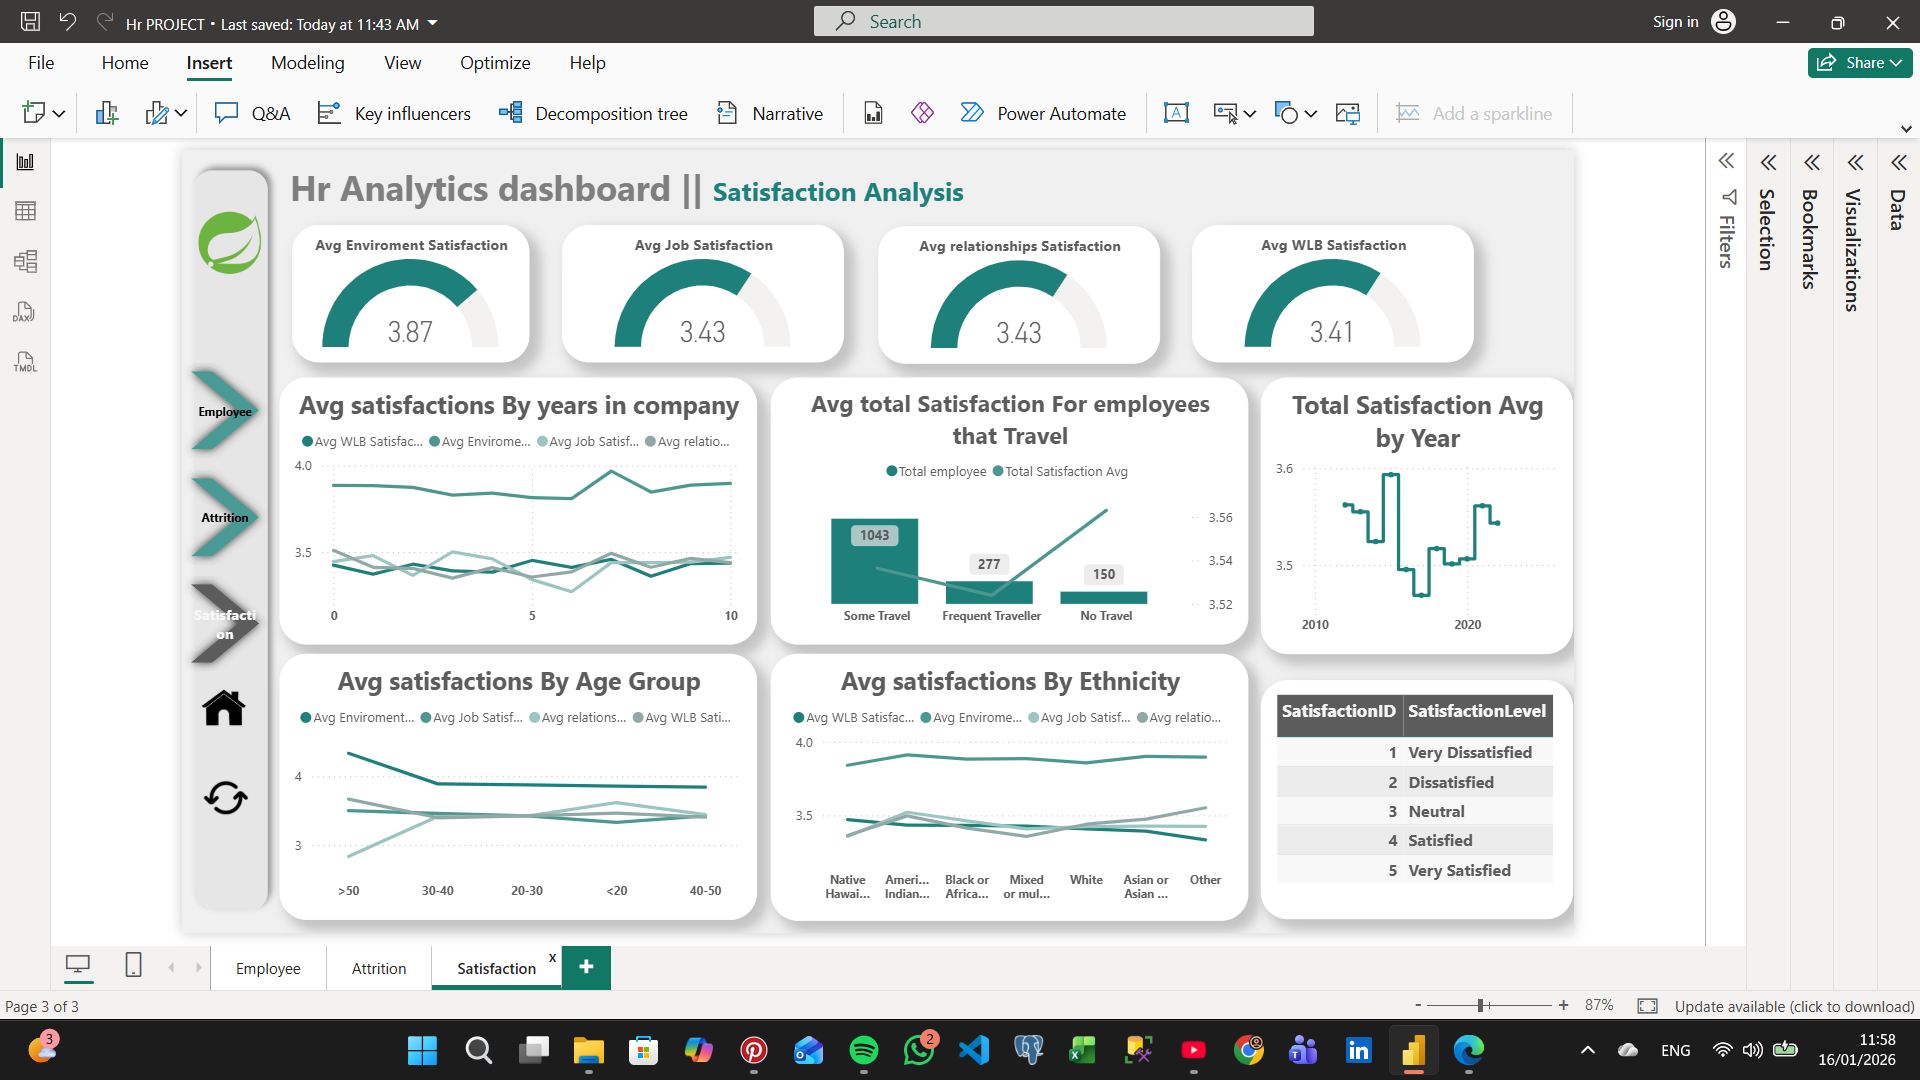

Layout of this report page (visuals, bound fields, positions):
{"tool":"powerbi","page":{"name":"Satisfaction","canvas":[1280,720],"ordinal":2},"visuals":[{"type":"textbox","box":[89.3,8.4,645.4,60.3],"z":0},{"type":"shape","box":[0,8,89.7,702.3],"z":1000},{"type":"image","box":[3.6,563.4,73.6,67.6],"z":2000},{"type":"image","box":[0,473.6,79.3,78.2],"z":3000},{"type":"gauge","title":"Avg Enviroment Satisfaction","fields":{"MaxValue":["Maesures.Max satisfaction"],"Y":["Maesures.Avg Enviroment Satisfaction"]},"box":[101.3,69.2,218.4,126.7],"z":4000},{"type":"gauge","title":"Avg relationships Satisfaction","fields":{"Y":["Maesures.Avg relationships Satisfaction"],"MaxValue":["Maesures.Max satisfaction"]},"box":[640.5,69.6,259.5,126.6],"z":5000},{"type":"gauge","title":"Avg Job Satisfaction","fields":{"Y":["Maesures.Avg Job Satisfaction"],"MaxValue":["Maesures.Max satisfaction"]},"box":[349.8,69.3,259.5,126.6],"z":6000},{"type":"gauge","title":"Avg WLB Satisfaction","fields":{"Y":["Maesures.Avg WLB Satisfaction"],"MaxValue":["Maesures.Max satisfaction"]},"box":[929.1,69.3,259.5,126.6],"z":7000},{"type":"lineChart","title":"Avg satisfactions By years in company ","fields":{"Y":["Maesures.Avg WLB Satisfaction","Maesures.Avg Enviroment Satisfaction","Maesures.Avg Job Satisfaction","Maesures.Avg relationships Satisfaction"],"Category":["Dim Employee.YearsAtCompany"]},"box":[89.9,208.9,439,245.6],"z":8000},{"type":"lineChart","title":"Avg satisfactions By Age Group","fields":{"Category":["Dim Employee.Age Group"],"Y":["Maesures.Avg Enviroment Satisfaction","Maesures.Avg Job Satisfaction","Maesures.Avg relationships Satisfaction","Maesures.Avg WLB Satisfaction"]},"box":[89.9,463.3,439,245],"z":9000},{"type":"lineStackedColumnComboChart","title":"Avg total Satisfaction For employees that Travel ","fields":{"Category":["Dim Employee.BusinessTravel"],"Y":["Maesures.Total employee"],"Y2":["Maesures.Total Satisfaction Avg"]},"box":[541.8,208.9,439.2,245.6],"z":9001},{"type":"lineChart","title":"Avg satisfactions By Ethnicity ","fields":{"Y":["Maesures.Avg WLB Satisfaction","Maesures.Avg Enviroment Satisfaction","Maesures.Avg Job Satisfaction","Maesures.Avg relationships Satisfaction"],"Category":["Dim Employee.Ethnicity"]},"box":[541.8,463.3,439.2,245.6],"z":9002},{"type":"tableEx","fields":{"Values":["Dim Satisfaction.SatisfactionID","Dim Satisfaction.SatisfactionLevel"]},"box":[992.4,487.3,287.3,220.3],"z":9003},{"type":"lineChart","fields":{"Category":["DimDate.Year"],"Y":["Maesures.Total Satisfaction Avg"]},"box":[992.4,208.9,287.3,254.4],"z":9004},{"type":"image","box":[10.1,38,67.1,93.7],"z":9006},{"type":"pageNavigator","box":[0,195.4,79.3,285.1],"z":9007}]}

Visuals, with their boxes on the page's 1280x720 design canvas (x1, y1, x2, y2). These are canvas units, not pixel positions in the 1920x1080 screenshot, which may show the page scaled, cropped or inside an application window:
textbox: (89,8,735,69)
shape: (0,8,90,710)
image: (4,563,77,631)
image: (0,474,79,552)
"Avg Enviroment Satisfaction" gauge: (101,69,320,196)
"Avg relationships Satisfaction" gauge: (640,70,900,196)
"Avg Job Satisfaction" gauge: (350,69,609,196)
"Avg WLB Satisfaction" gauge: (929,69,1189,196)
"Avg satisfactions By years in company " lineChart: (90,209,529,454)
"Avg satisfactions By Age Group" lineChart: (90,463,529,708)
"Avg total Satisfaction For employees that Travel " lineStackedColumnComboChart: (542,209,981,454)
"Avg satisfactions By Ethnicity " lineChart: (542,463,981,709)
tableEx - Dim Satisfaction.SatisfactionID x Dim Satisfaction.SatisfactionLevel: (992,487,1280,708)
lineChart - DimDate.Year x Maesures.Total Satisfaction Avg: (992,209,1280,463)
image: (10,38,77,132)
pageNavigator: (0,195,79,480)
